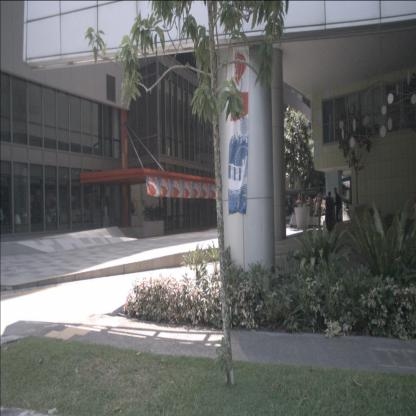human-pedestrian-adult: (314, 188, 327, 228), (333, 187, 342, 229), (325, 191, 334, 232)
